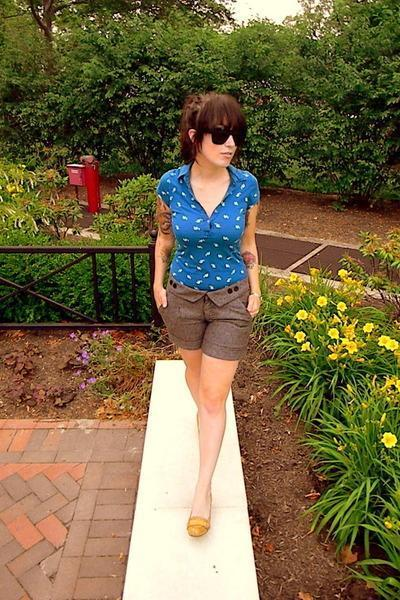shirt: (155, 164, 259, 288)
shoe: (171, 527, 201, 555)
shorts: (158, 276, 255, 360)
sunglass: (214, 119, 249, 147)
